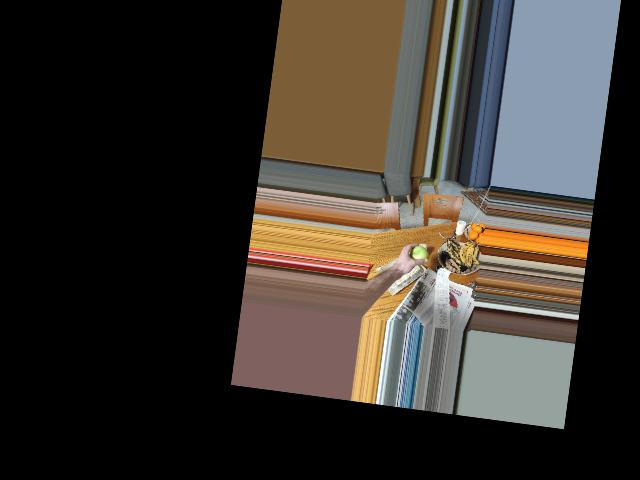apple: (404, 241, 431, 268)
